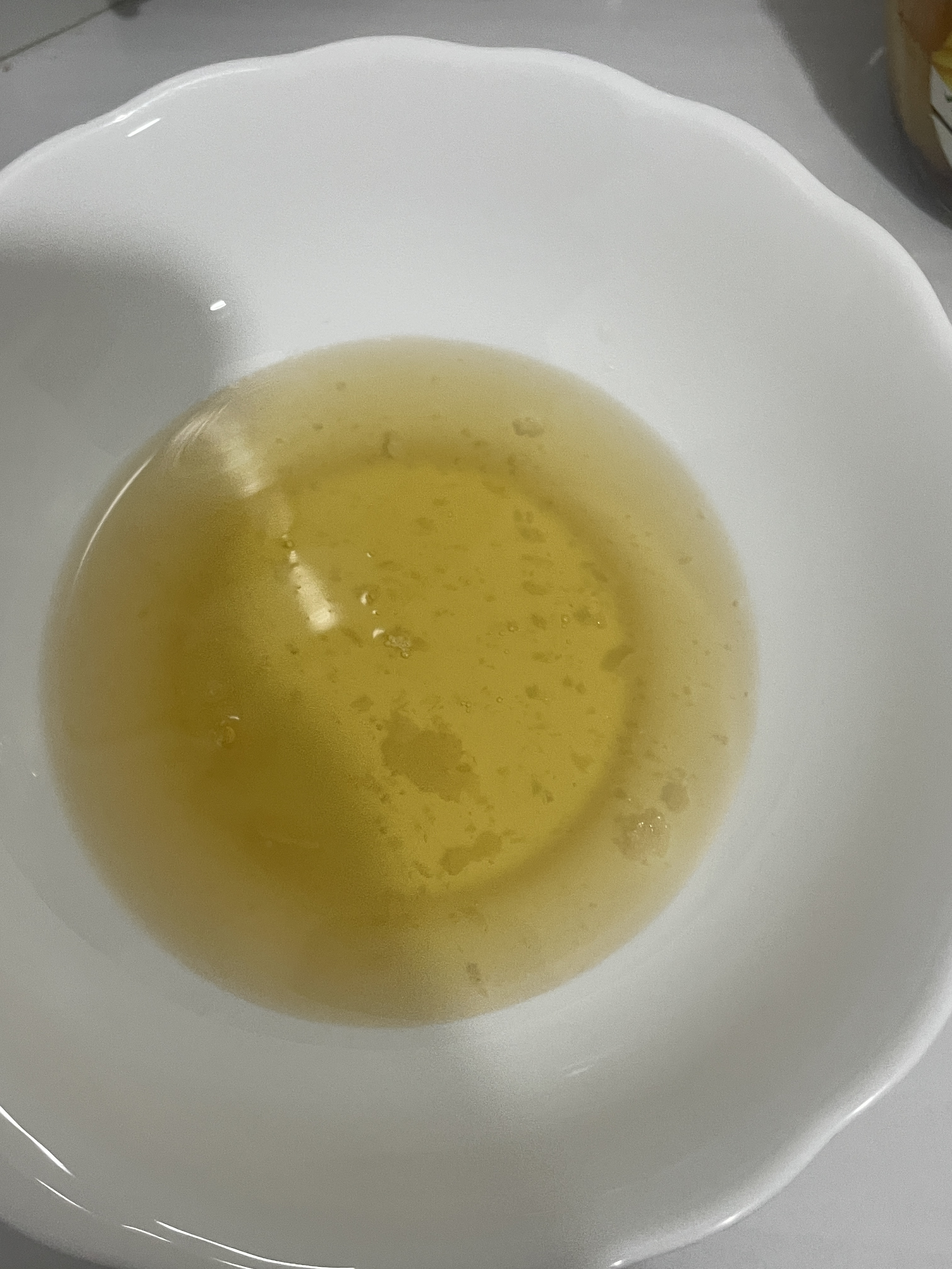reusable: (50, 340, 746, 1020)
